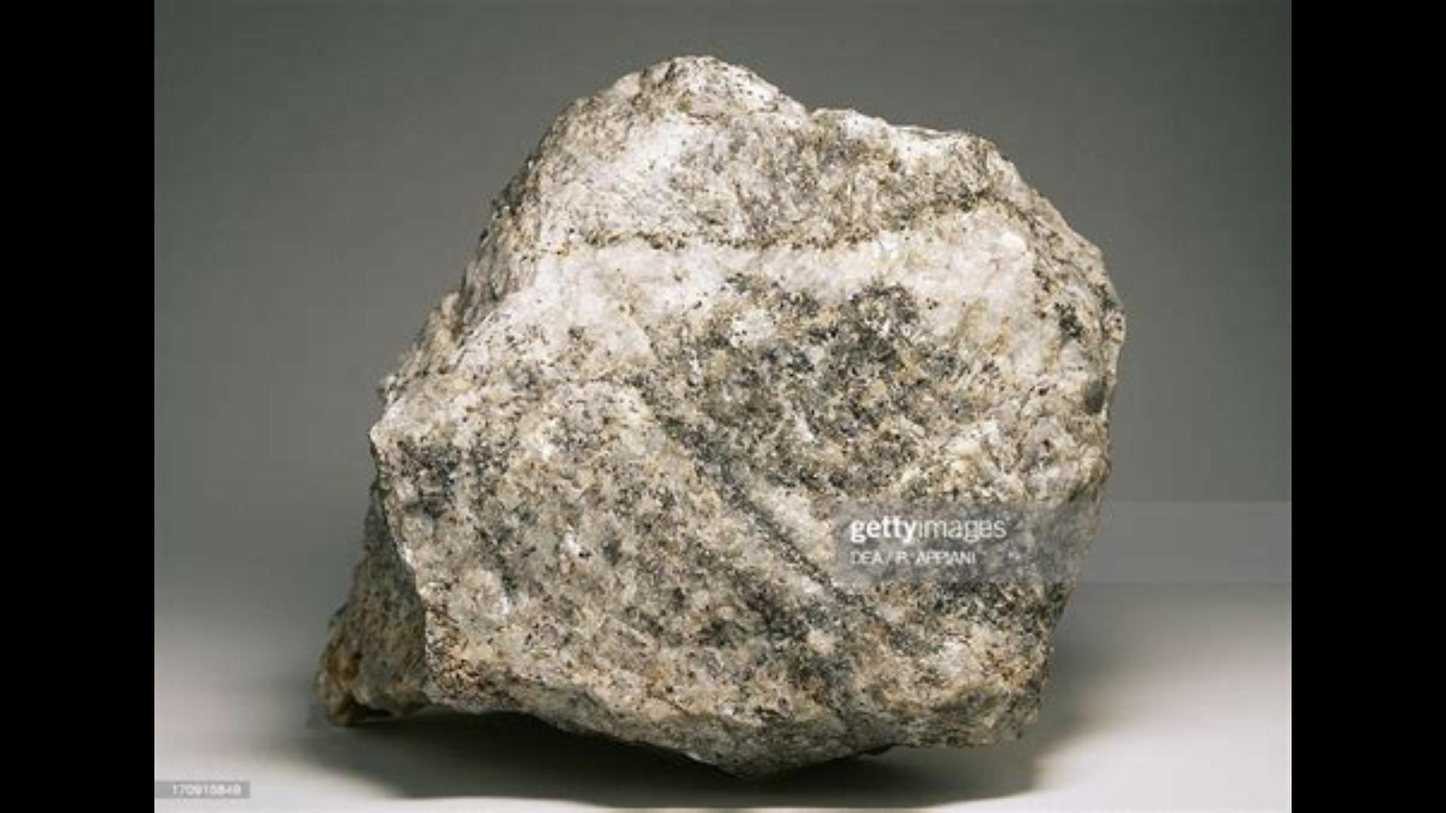rock: (320, 58, 1119, 770)
